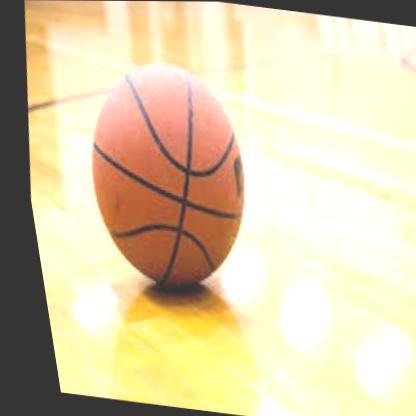basketball: (57, 54, 267, 300)
